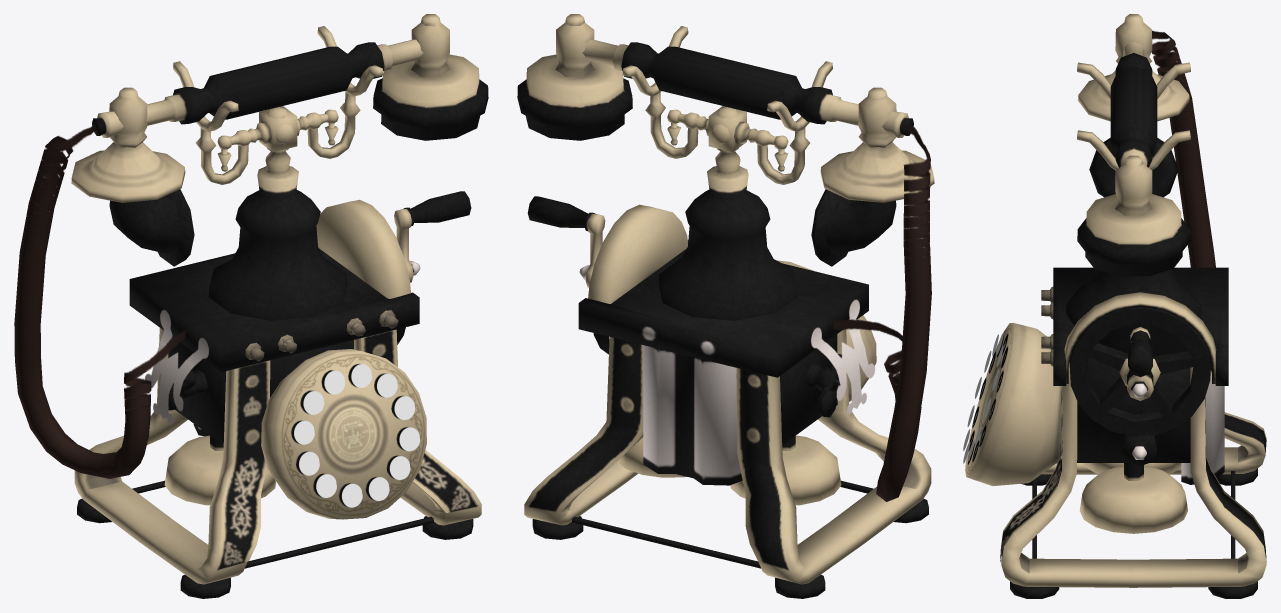
Rendered from phone.glb.
3 renders of one model, left to right at view 1: azimuth 30°, elevation 25°; view 2: azimuth 150°, elevation 25°; view 3: azimuth 270°, elevation 25°, orthographic. The views are drawn at different scales.
Parts seen in each view (by area): view 1: LowPolyPhone; view 2: LowPolyPhone; view 3: LowPolyPhone.
Part boxes in pixels (<box>): LowPolyPhone: <box>14,14,488,598</box>; LowPolyPhone: <box>517,14,934,598</box>; LowPolyPhone: <box>963,14,1266,598</box>.
Bounding box in the file's own units: 503 × 522 × 321.
2 materials, 2 textured.
